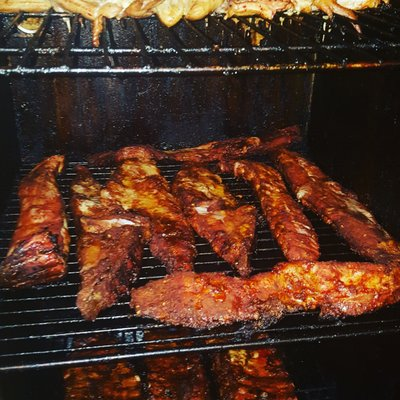sandwich: (129, 260, 400, 331), (167, 159, 258, 276), (232, 151, 321, 263)
